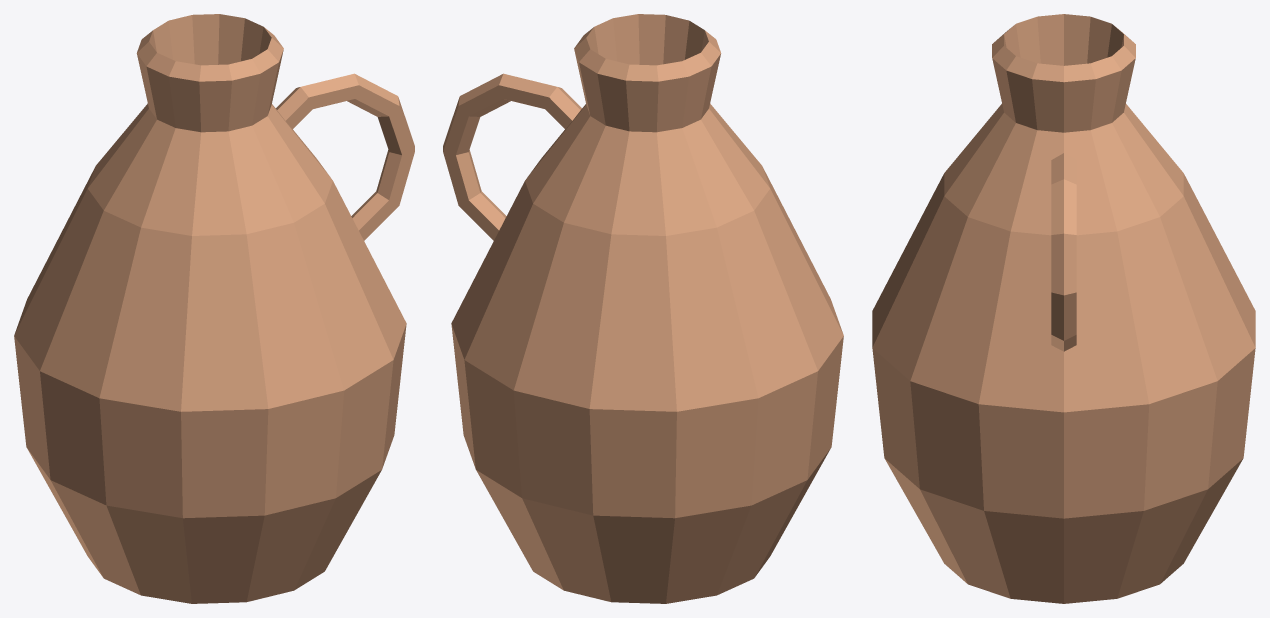
The model's file is copper_jug_kumgan.glb.
3 renders of one model, left to right at view 1: azimuth 30°, elevation 25°; view 2: azimuth 150°, elevation 25°; view 3: azimuth 270°, elevation 25°, orthographic.
Visible parts, largest first — view 1: Copper_Jug_Kumgan; view 2: Copper_Jug_Kumgan; view 3: Copper_Jug_Kumgan.
Part boxes in pixels (bbox=[...]): Copper_Jug_Kumgan: bbox=[14, 14, 414, 603]; Copper_Jug_Kumgan: bbox=[443, 14, 843, 603]; Copper_Jug_Kumgan: bbox=[872, 14, 1255, 603].
Size of the model in its own units: 0.352 by 0.46 by 0.312.
